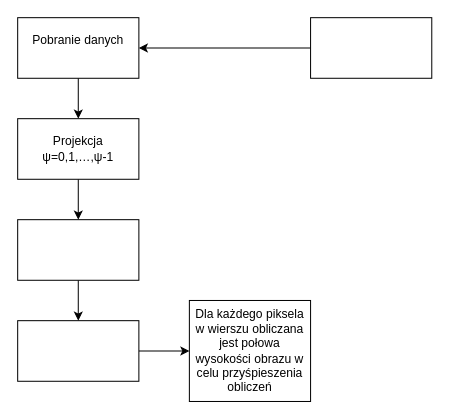
Some shapes in this 449 by 419 pixel diagram are drawn without their labels. Here are the shapes that lost their labels. From the top down, the centre of each, then its label:
[78,249]: Przeliczenia projekcji na punkty
[78,350]: Transformata Fouriera
